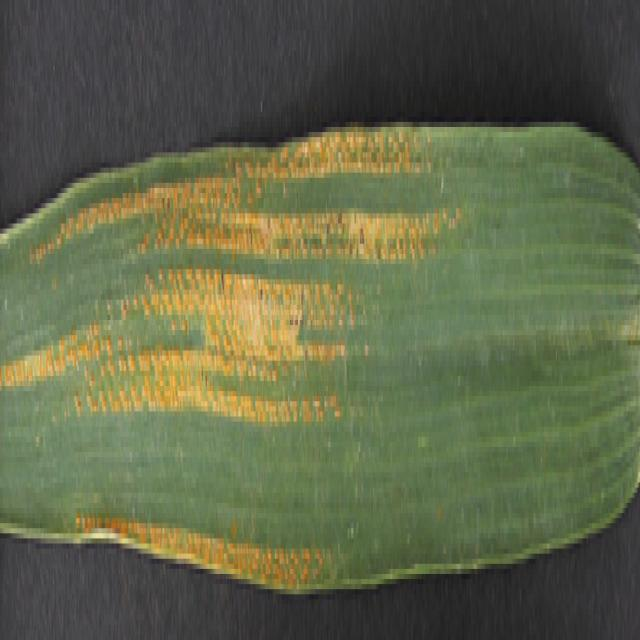leaf rust: (1, 132, 460, 605)
